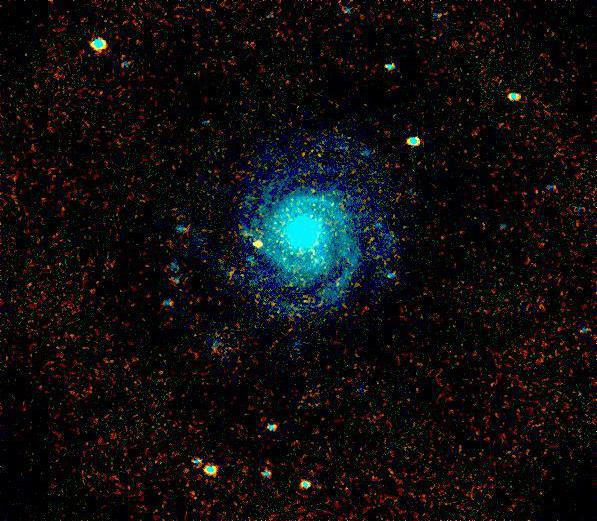star: (243, 232, 273, 262)
